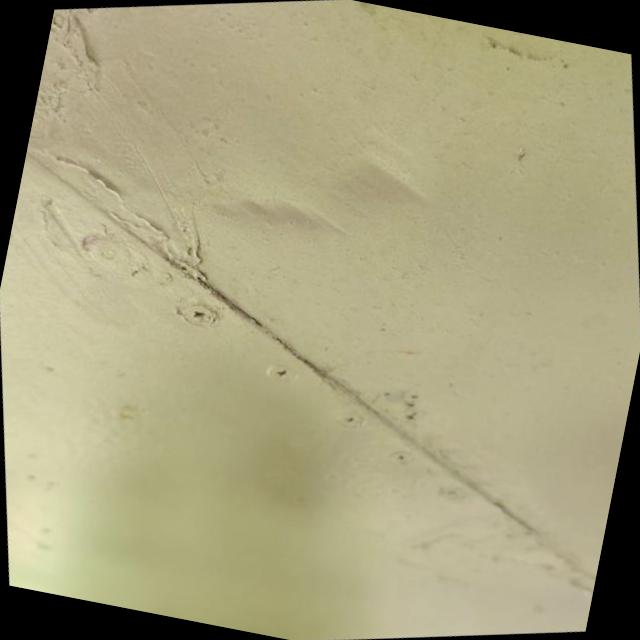dent: (177, 178, 354, 248)
